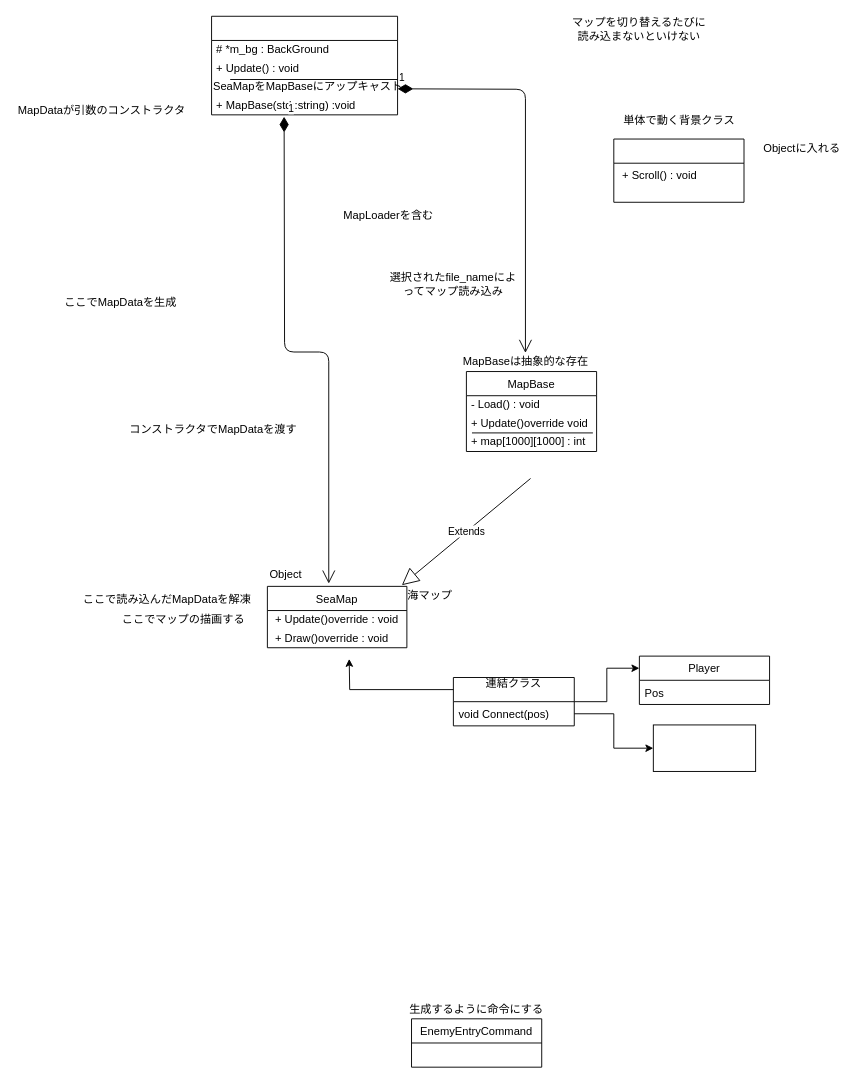
Image size: 864x1083. Some labels were removed from this diagram. Here are the shapes that lost their labels. From the top down, the box of each, then its label:
(211, 15, 398, 115): MapManager
(613, 138, 744, 202): BackGround
(652, 724, 756, 771): Enemy
